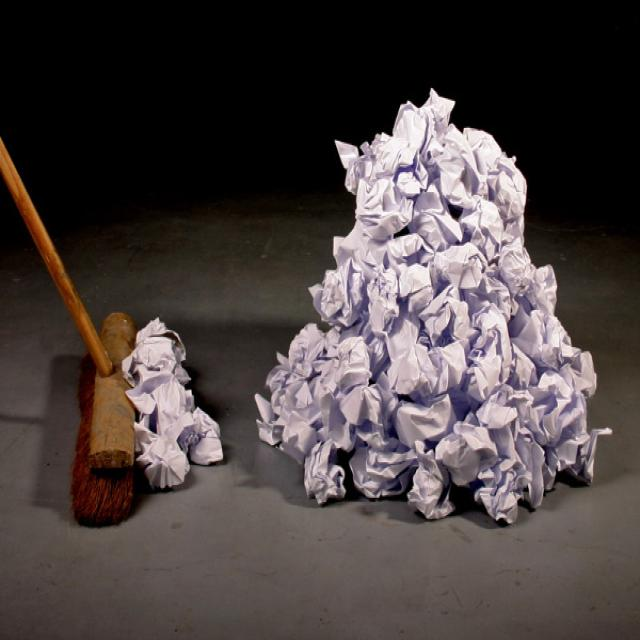PaperCardboard: (263, 86, 598, 522)
